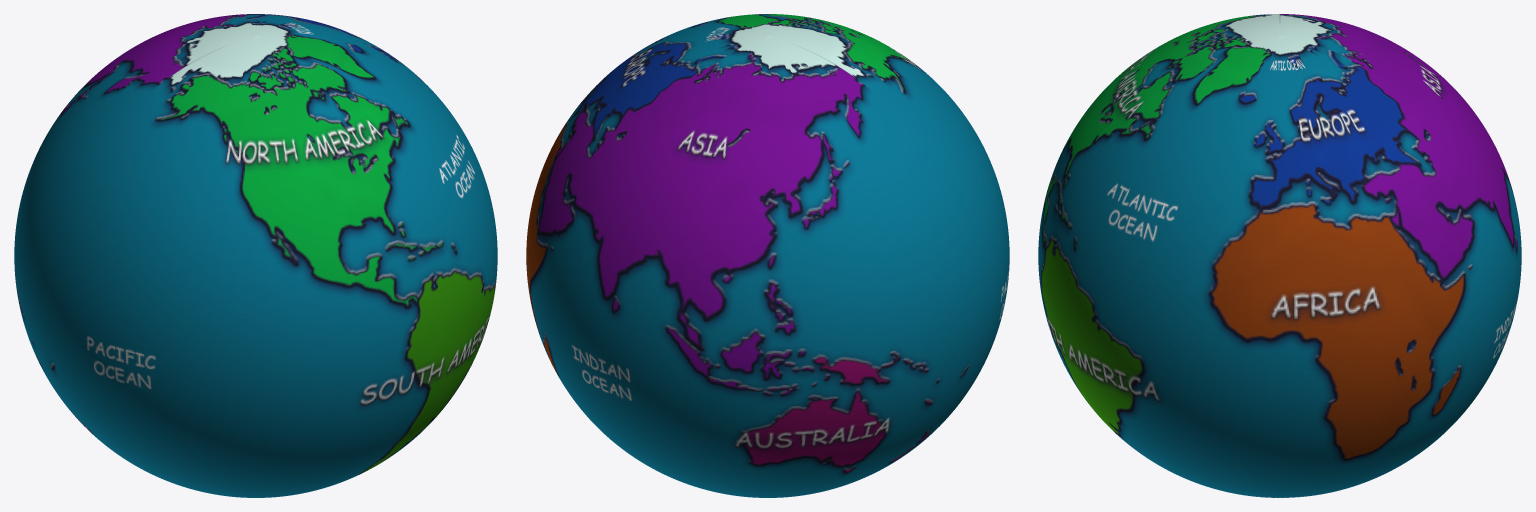
The model's file is pohjapallo2.fbx.
The picture shows the model from 3 angles, left to right: view 1: azimuth 30°, elevation 25°; view 2: azimuth 150°, elevation 25°; view 3: azimuth 270°, elevation 25°; orthographic projection.
Visible parts, largest first — view 1: Sphere; view 2: Sphere; view 3: Sphere.
Boxes of the visible parts, bbox=[...] form: Sphere: bbox=[14, 14, 497, 497]; Sphere: bbox=[526, 14, 1009, 497]; Sphere: bbox=[1038, 14, 1521, 497].
Bounding box in the file's own units: 189 × 190 × 189.
